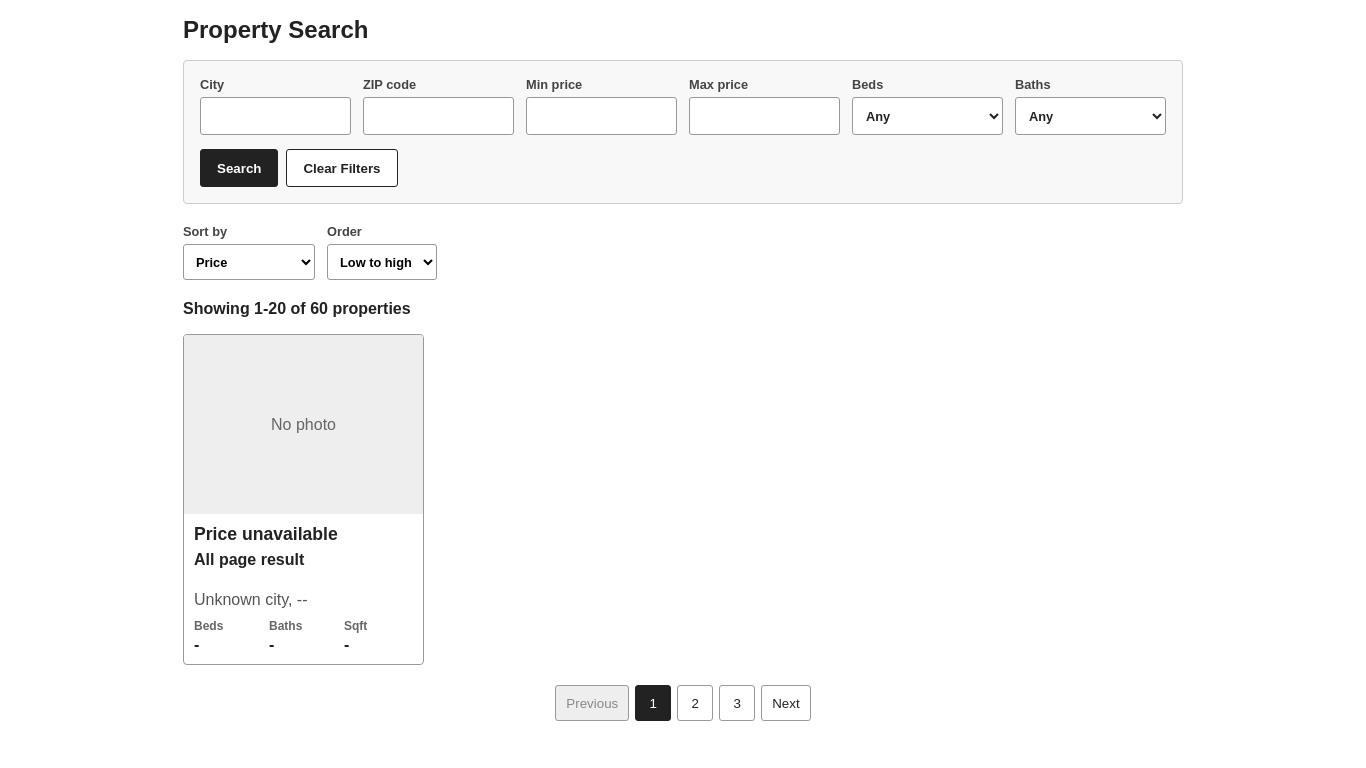
Test case: page changes preserve filters and new filters reset to page one
Expected: the text "Showing 1-20 of 60 properties" is shown, top-left (183, 300), bottom-right (411, 317)
Step 1. Type "Austin" into the field labelled "City" → (276, 116), box top-left (200, 97), bottom-right (351, 135)
Step 2. Click the button "Search" → (239, 168), box top-left (200, 149), bottom-right (278, 187)
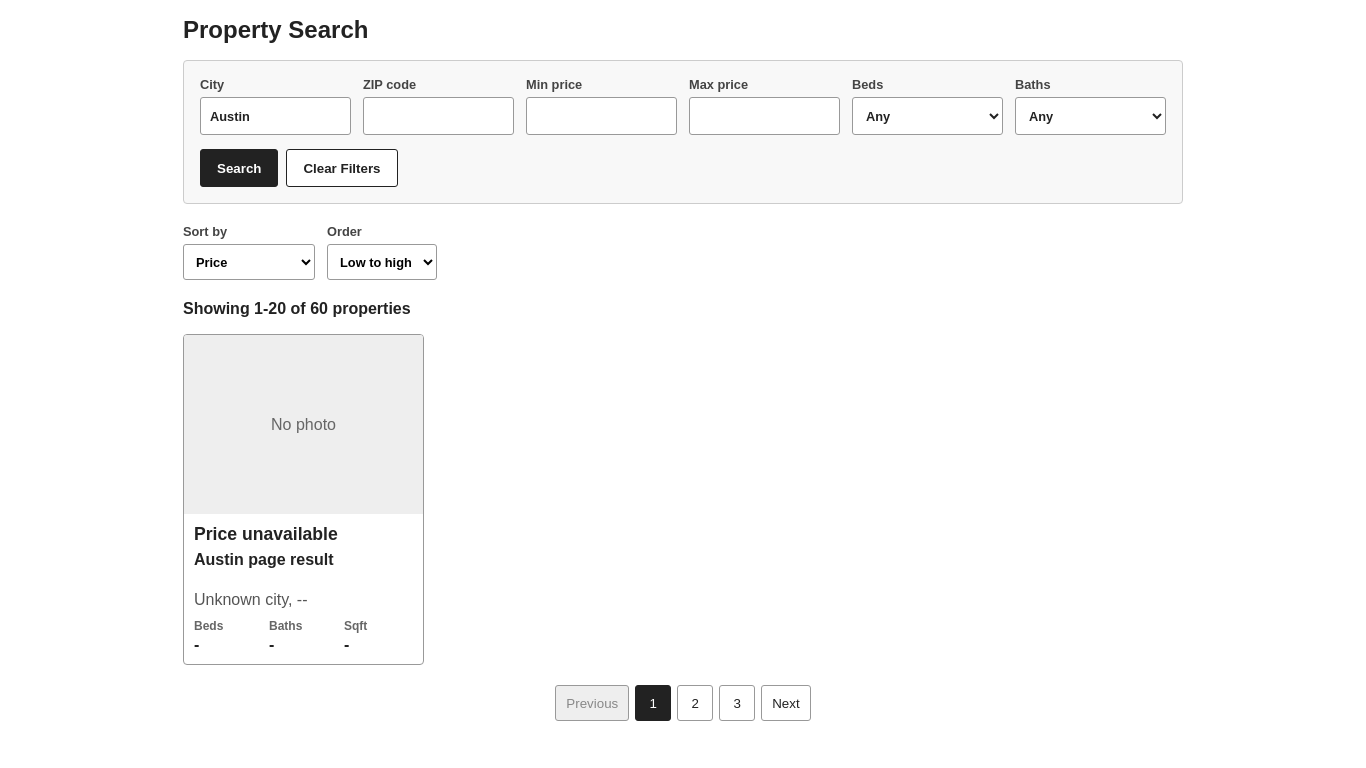
Step 3. Select "Date listed" in the dropdown labelled "Sort by" → (249, 262), box top-left (183, 244), bottom-right (315, 280)
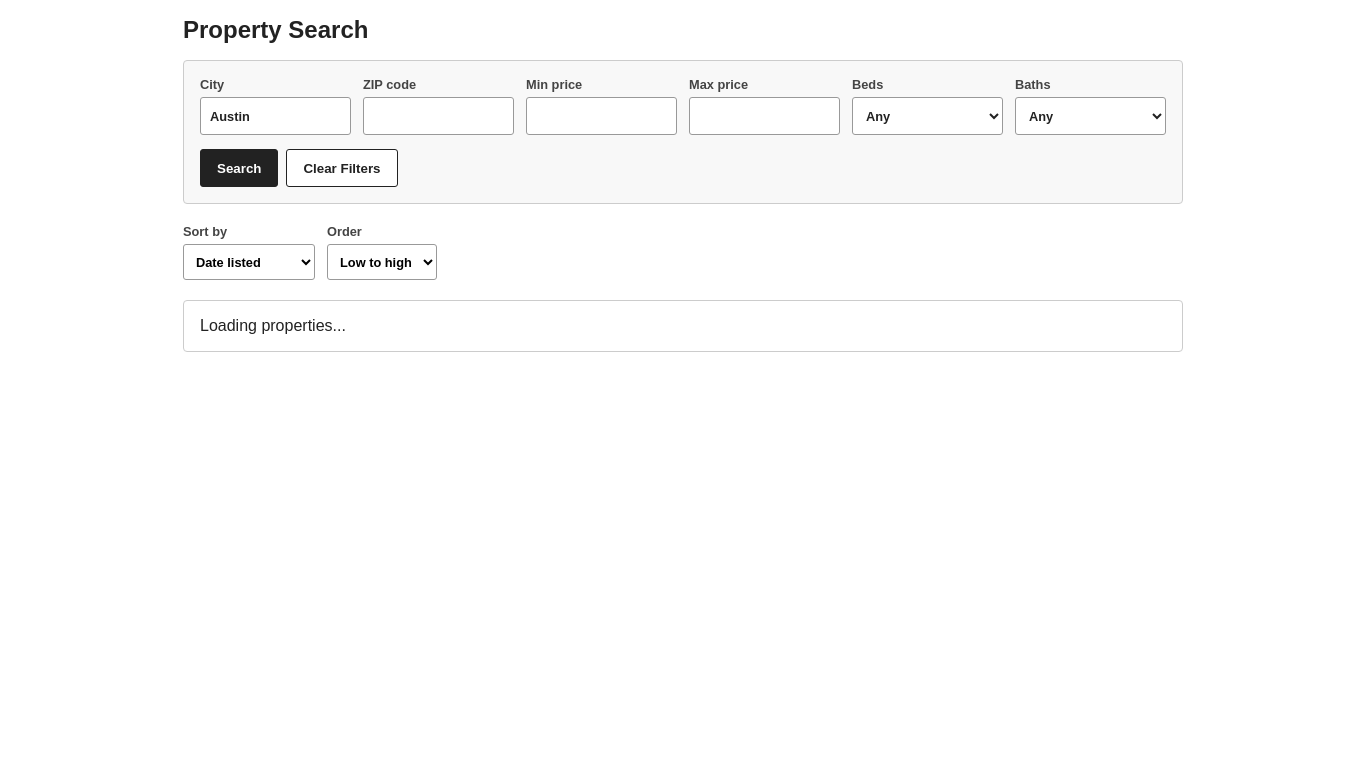
Step 4. Select "High to low" in the dropdown labelled "Order" → (382, 262), box top-left (327, 244), bottom-right (437, 280)
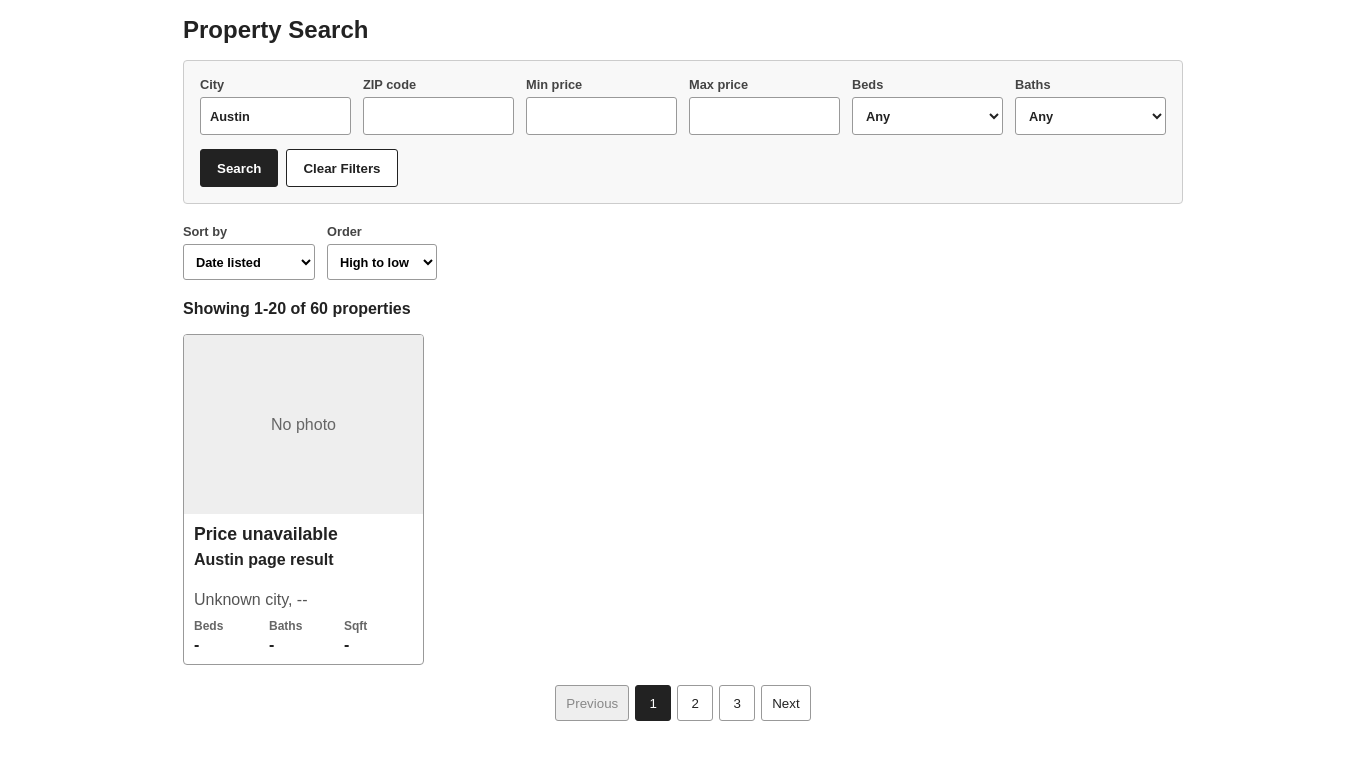
Step 5. Click the button "2" → (695, 703), box top-left (677, 685), bottom-right (713, 721)
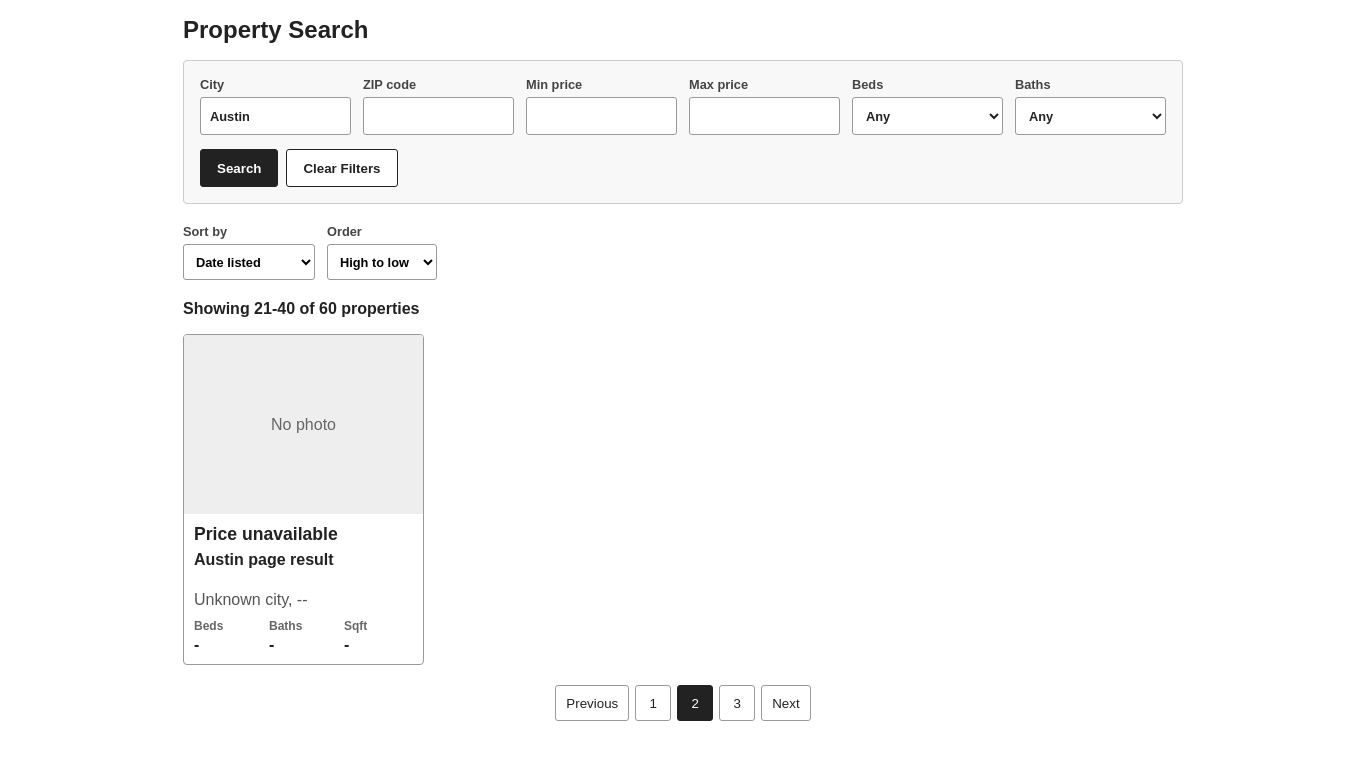
Now the text "Showing 21-40 of 60 properties" is shown, box top-left (183, 300), bottom-right (420, 317)
Step 6. Replace the text in the field labelled "City" with "Dallas" → (276, 116), box top-left (200, 97), bottom-right (351, 135)
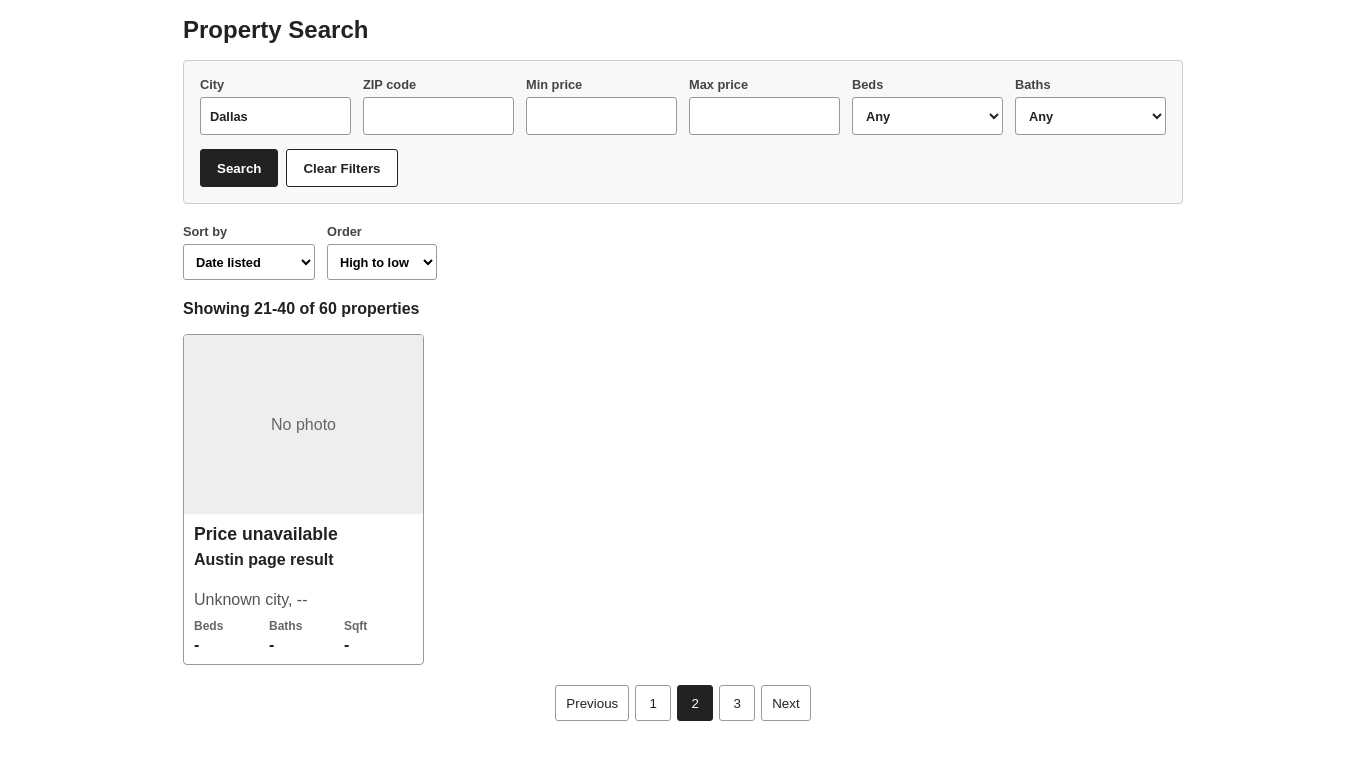
Step 7. Click the button "Search" → (239, 168), box top-left (200, 149), bottom-right (278, 187)
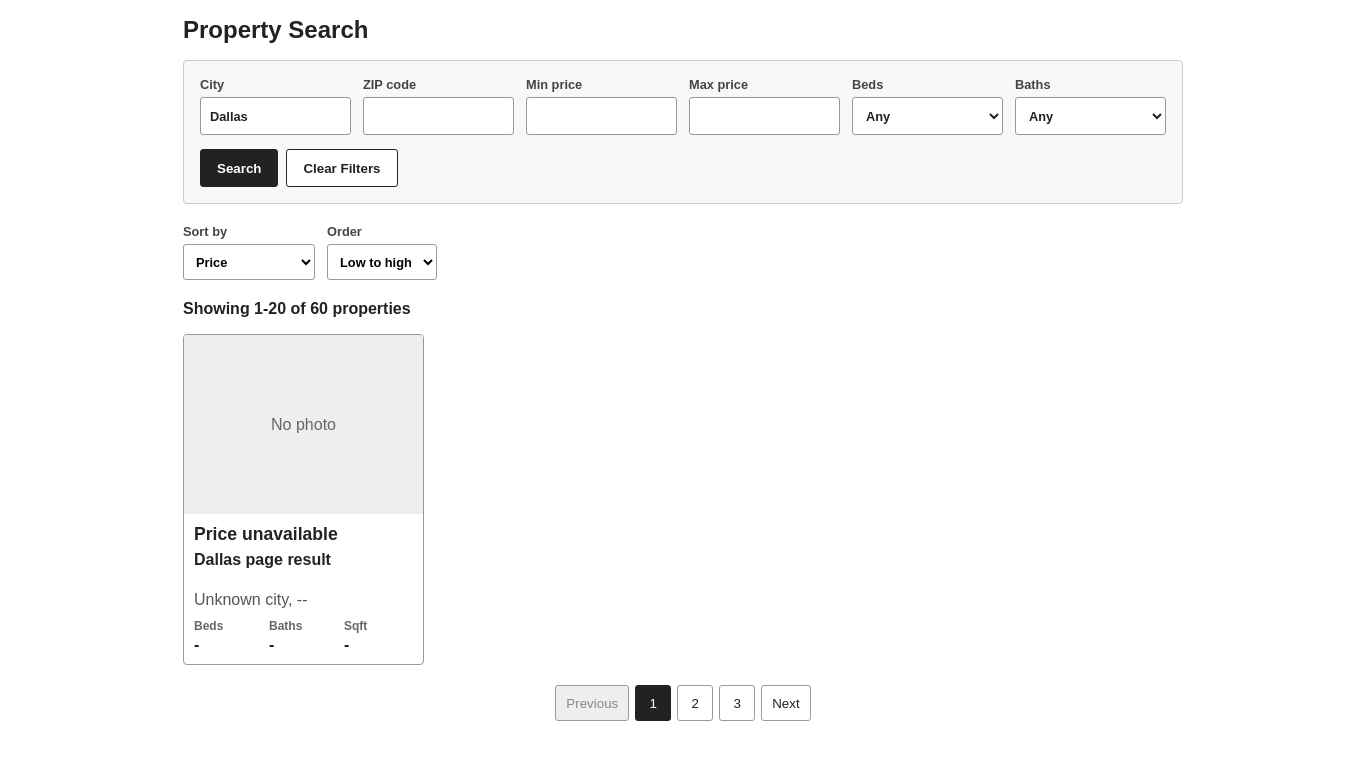
Now the text "Showing 1-20 of 60 properties" is shown, box top-left (183, 300), bottom-right (411, 317)
